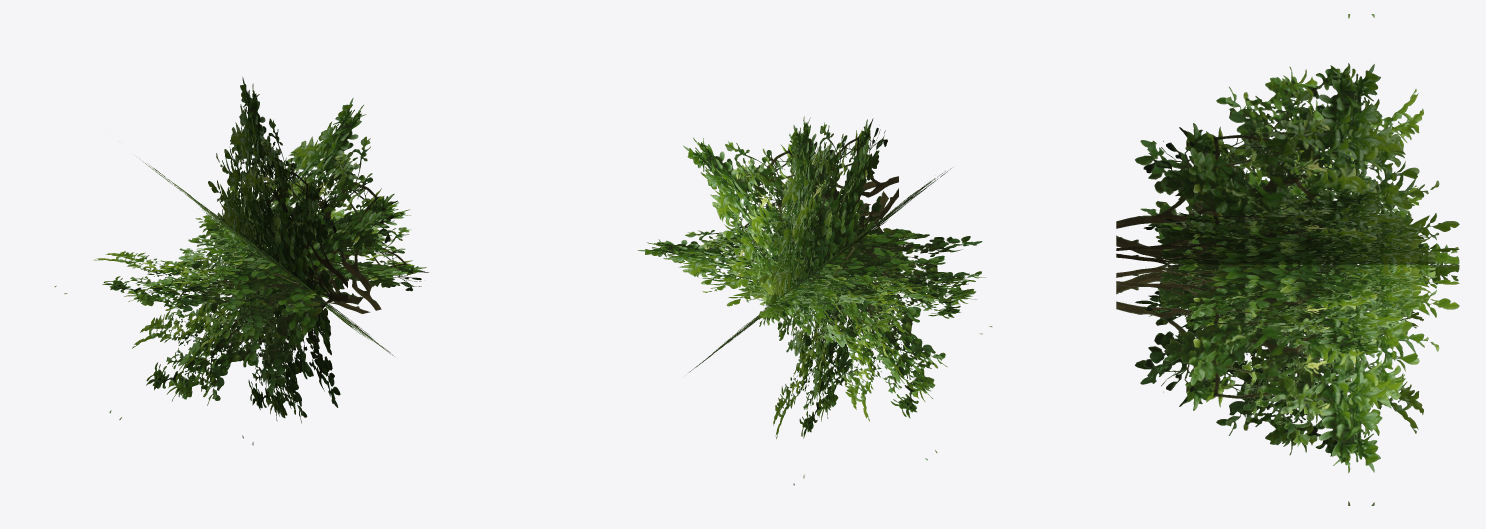
File: bush1.fbx
The picture shows the model from 3 angles, left to right: view 1: azimuth 30°, elevation 25°; view 2: azimuth 150°, elevation 25°; view 3: azimuth 270°, elevation 25°; orthographic projection. The views are drawn at different scales.
Parts seen in each view (by area): view 1: Bush1; view 2: Bush1; view 3: Bush1.
Part boxes in pixels (bbox=[...]): Bush1: bbox=[54, 77, 428, 445]; Bush1: bbox=[637, 116, 992, 485]; Bush1: bbox=[1116, 14, 1459, 505].
Size of the model in its own units: 150 by 150 by 100.
